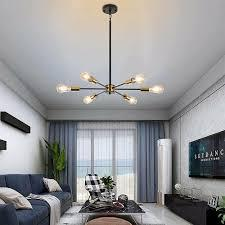TV: (188, 121, 225, 182)
console: (161, 190, 225, 224)
door: (92, 128, 115, 197), (115, 127, 136, 198), (77, 129, 92, 199)
light: (54, 2, 167, 105)
sofa: (0, 172, 74, 225)
table: (79, 195, 143, 225)
